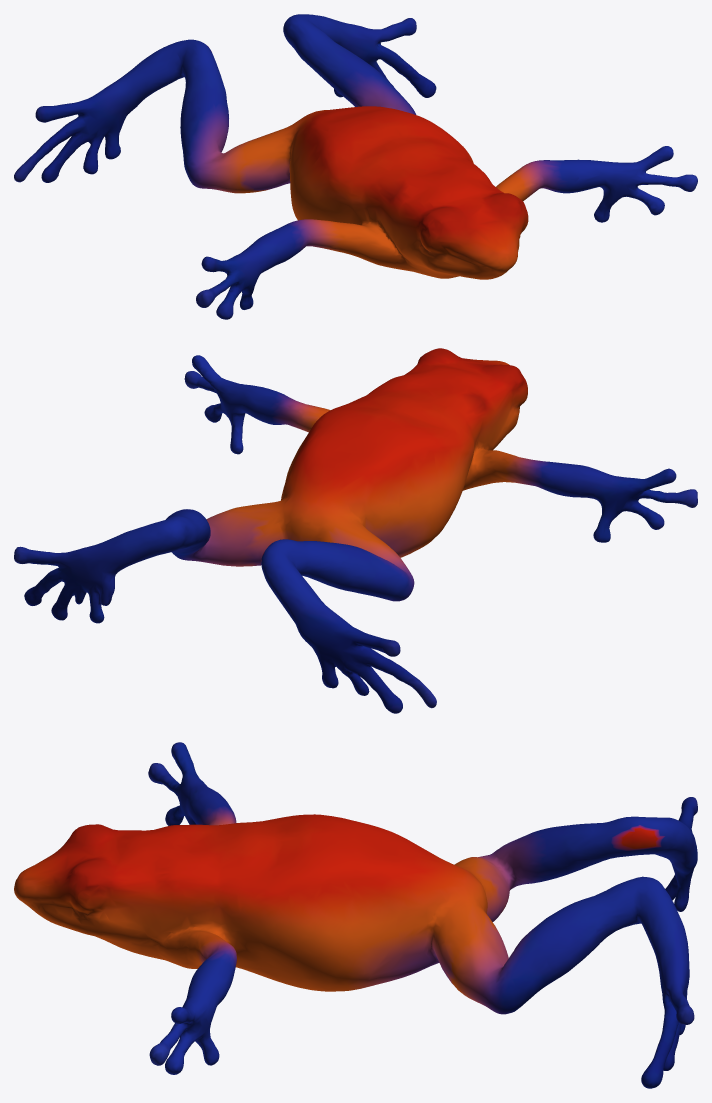
Rendered from strawberry.swim.glb.
3 renders of one model, top to bottom at view 1: azimuth 30°, elevation 25°; view 2: azimuth 150°, elevation 25°; view 3: azimuth 270°, elevation 25°, orthographic. The views are drawn at different scales.
Parts seen in each view (by area): view 1: strawberry.swim; view 2: strawberry.swim; view 3: strawberry.swim.
Part boxes in pixels (left/top/right/bottom): strawberry.swim: left=14, top=14, right=697, bottom=319; strawberry.swim: left=14, top=348, right=697, bottom=713; strawberry.swim: left=14, top=742, right=697, bottom=1088.
Bounding box in the file's own units: 0.0335 × 0.00841 × 0.0338.
